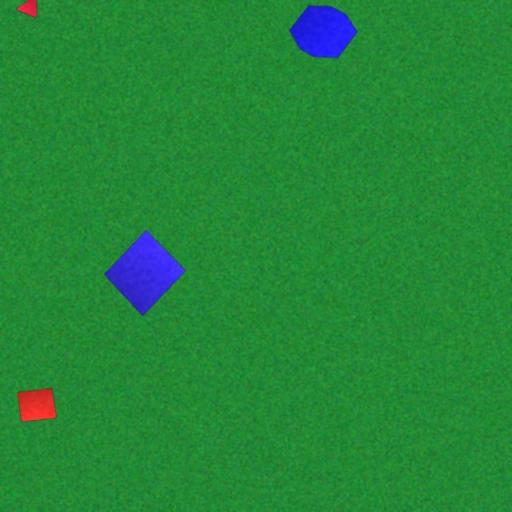BLUE_SQUARE: (103, 230, 187, 316)
RED_SQUARE: (17, 388, 57, 422)
